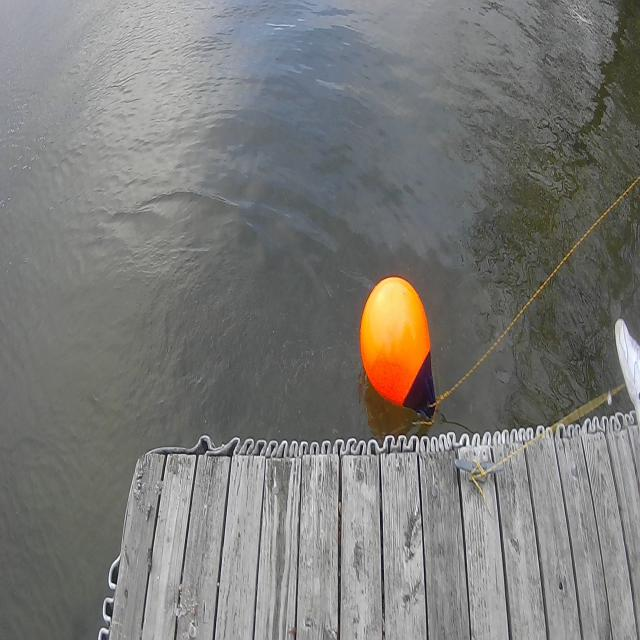Buoy: (358, 272, 439, 422)
